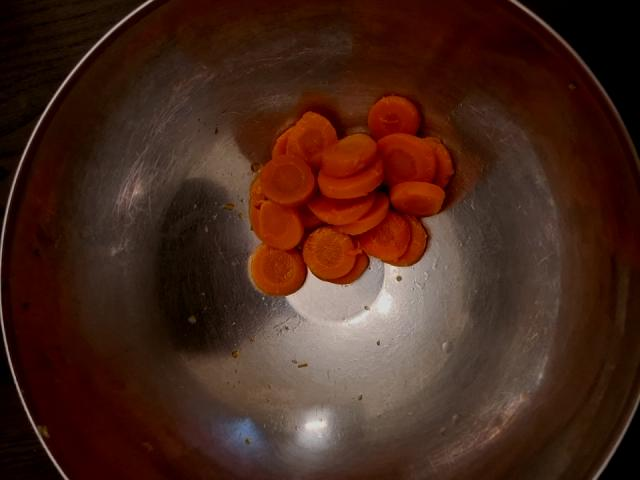kichen waste: (248, 95, 452, 297)
